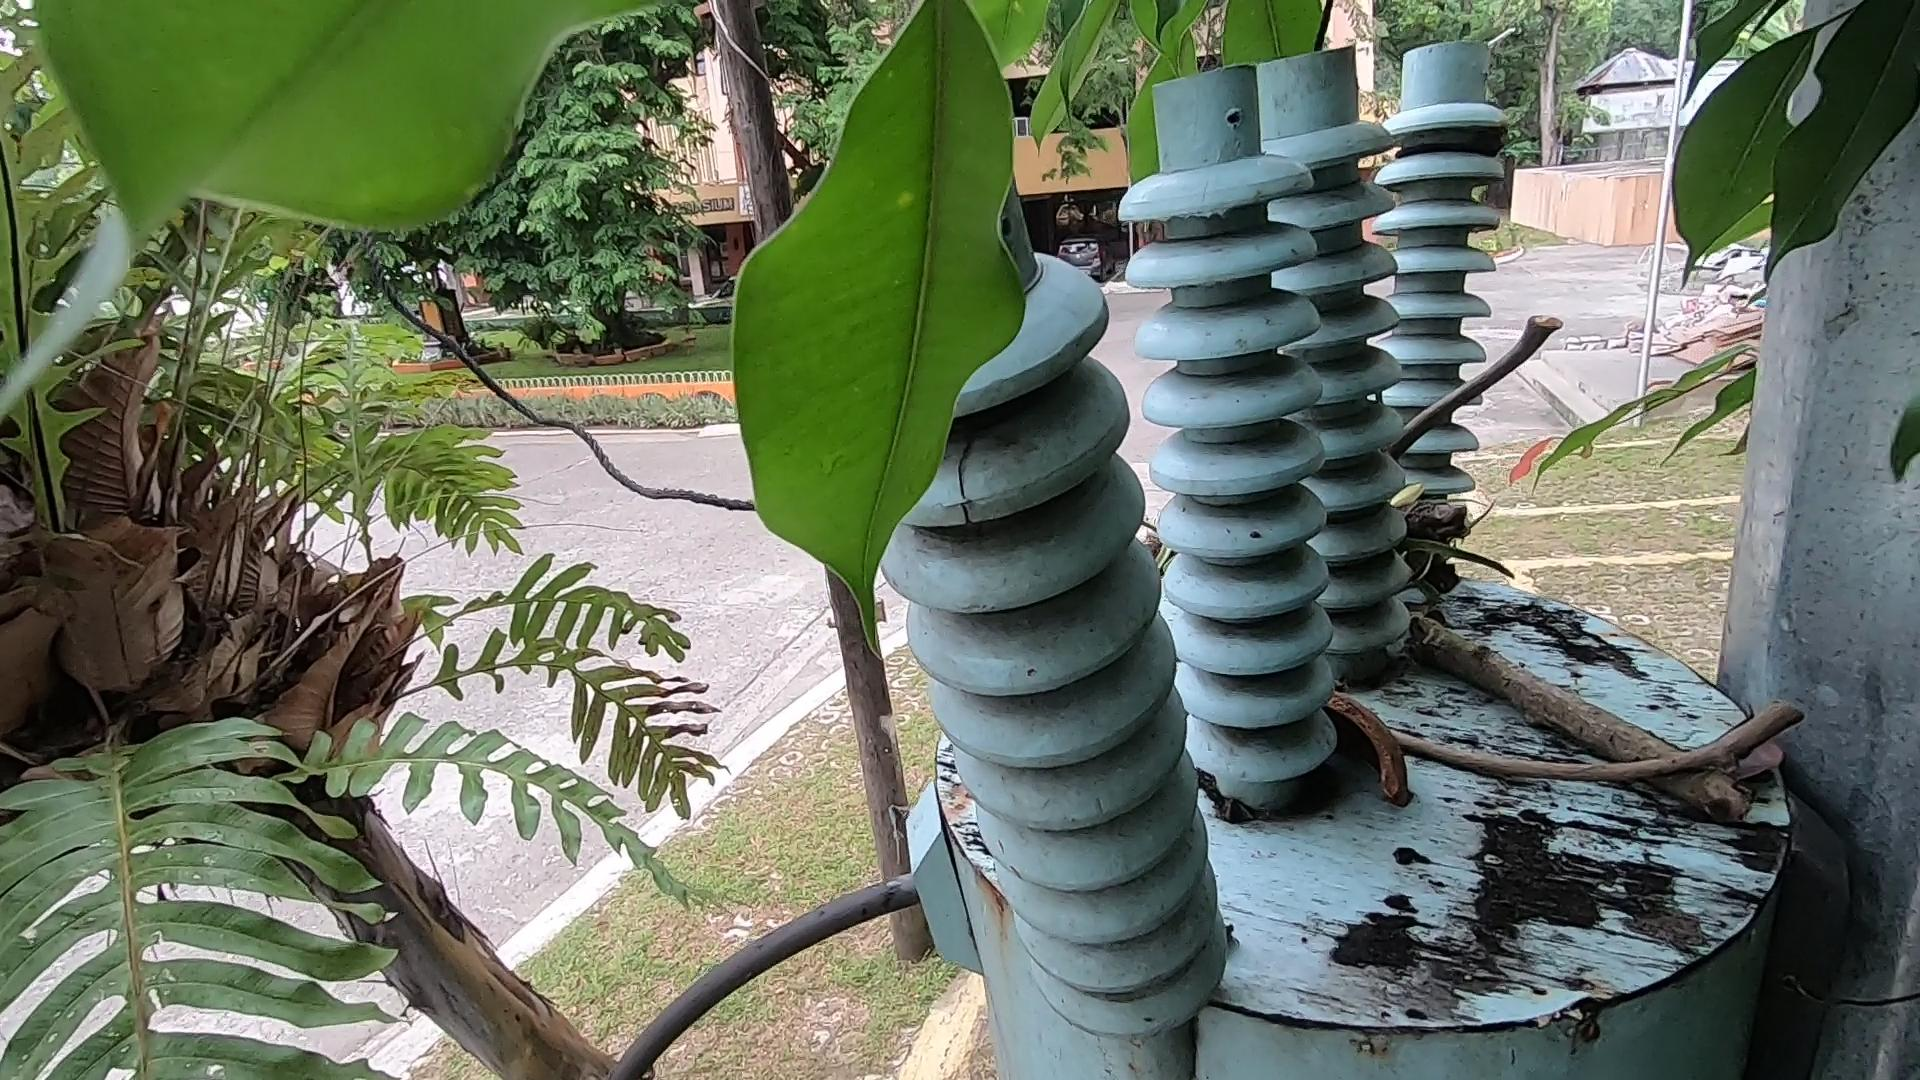branch with leaves: (1337, 448, 1799, 895)
leaf: (1720, 690, 1849, 844)
mahogany fruit: (1313, 682, 1514, 898)
tree branch: (1287, 107, 1697, 512), (1356, 707, 1803, 808)
